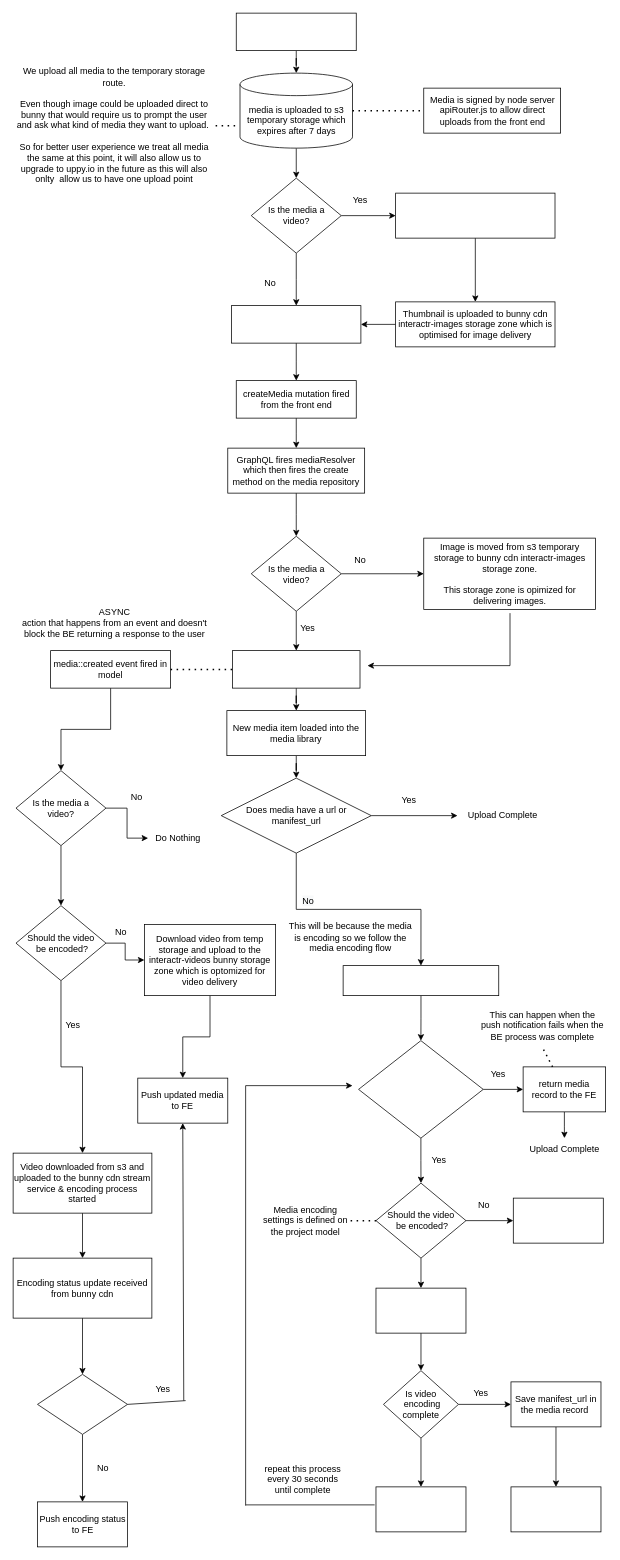
The diagram is 620 pixels wide and 1560 high, and some of its shapes have lost their labels. Here are the shapes that lost their labels. From the top down, the centre of each, then its label:
pixel 296 31: User Uploads media in the font end of interactr
pixel 475 215: Video thumbnail selected by user in VideoThumbnailSelectModal.jsx
pixel 296 324: New media is given a name by the user in the NewMediaSettingsModal.jsx
pixel 296 669: New media record created in DB and returned to FE
pixel 420 980: FE requests encoding update for media id
pixel 420 1089: Does media record in DB have a url or manifest_url
pixel 558 1220: Return false
pixel 420 1310: Request video status from bunny cdn
pixel 82 1404: Is encoding complete?
pixel 420 1509: Return the encoding status to FE
pixel 555 1509: return new media record to the FE
